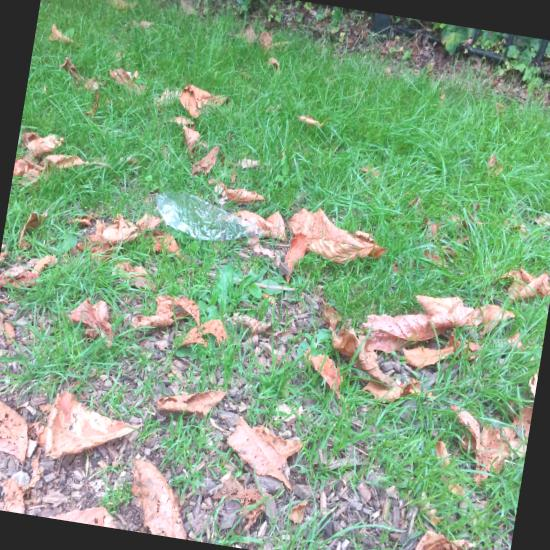Disposable plastic cup: (271, 485, 301, 525), (286, 418, 310, 446)
Unlabeled litter: (355, 441, 381, 464), (335, 402, 346, 412)
